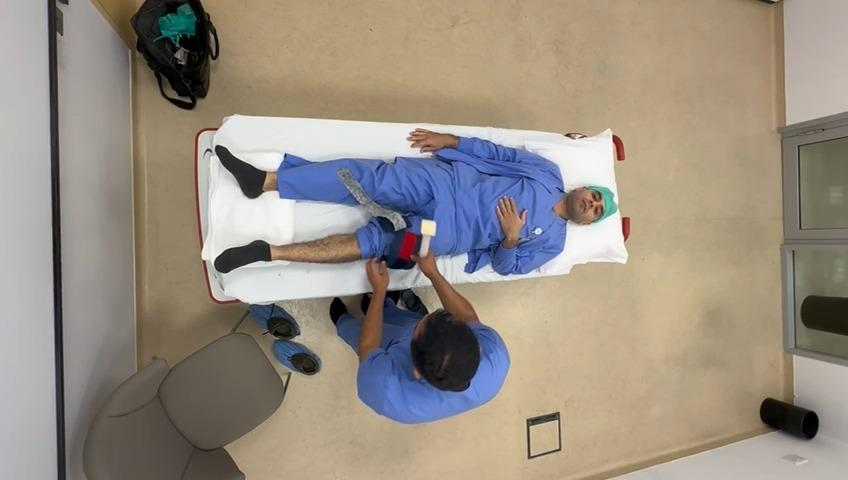bed: (197, 119, 631, 306)
patient: (215, 128, 618, 275), (214, 210, 404, 272)
prepstick: (419, 219, 437, 256)
tourniquet: (384, 230, 424, 269)
